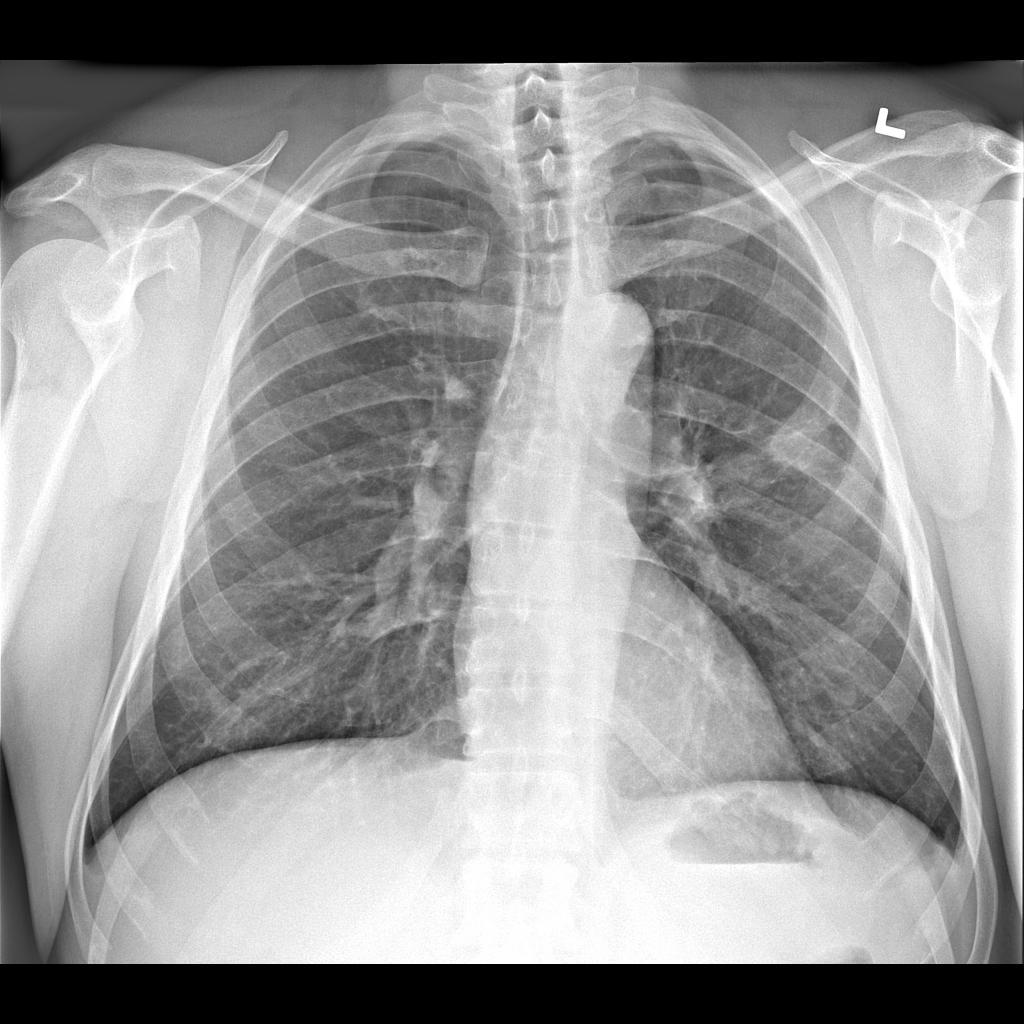Nodule: (440, 368, 477, 417)
